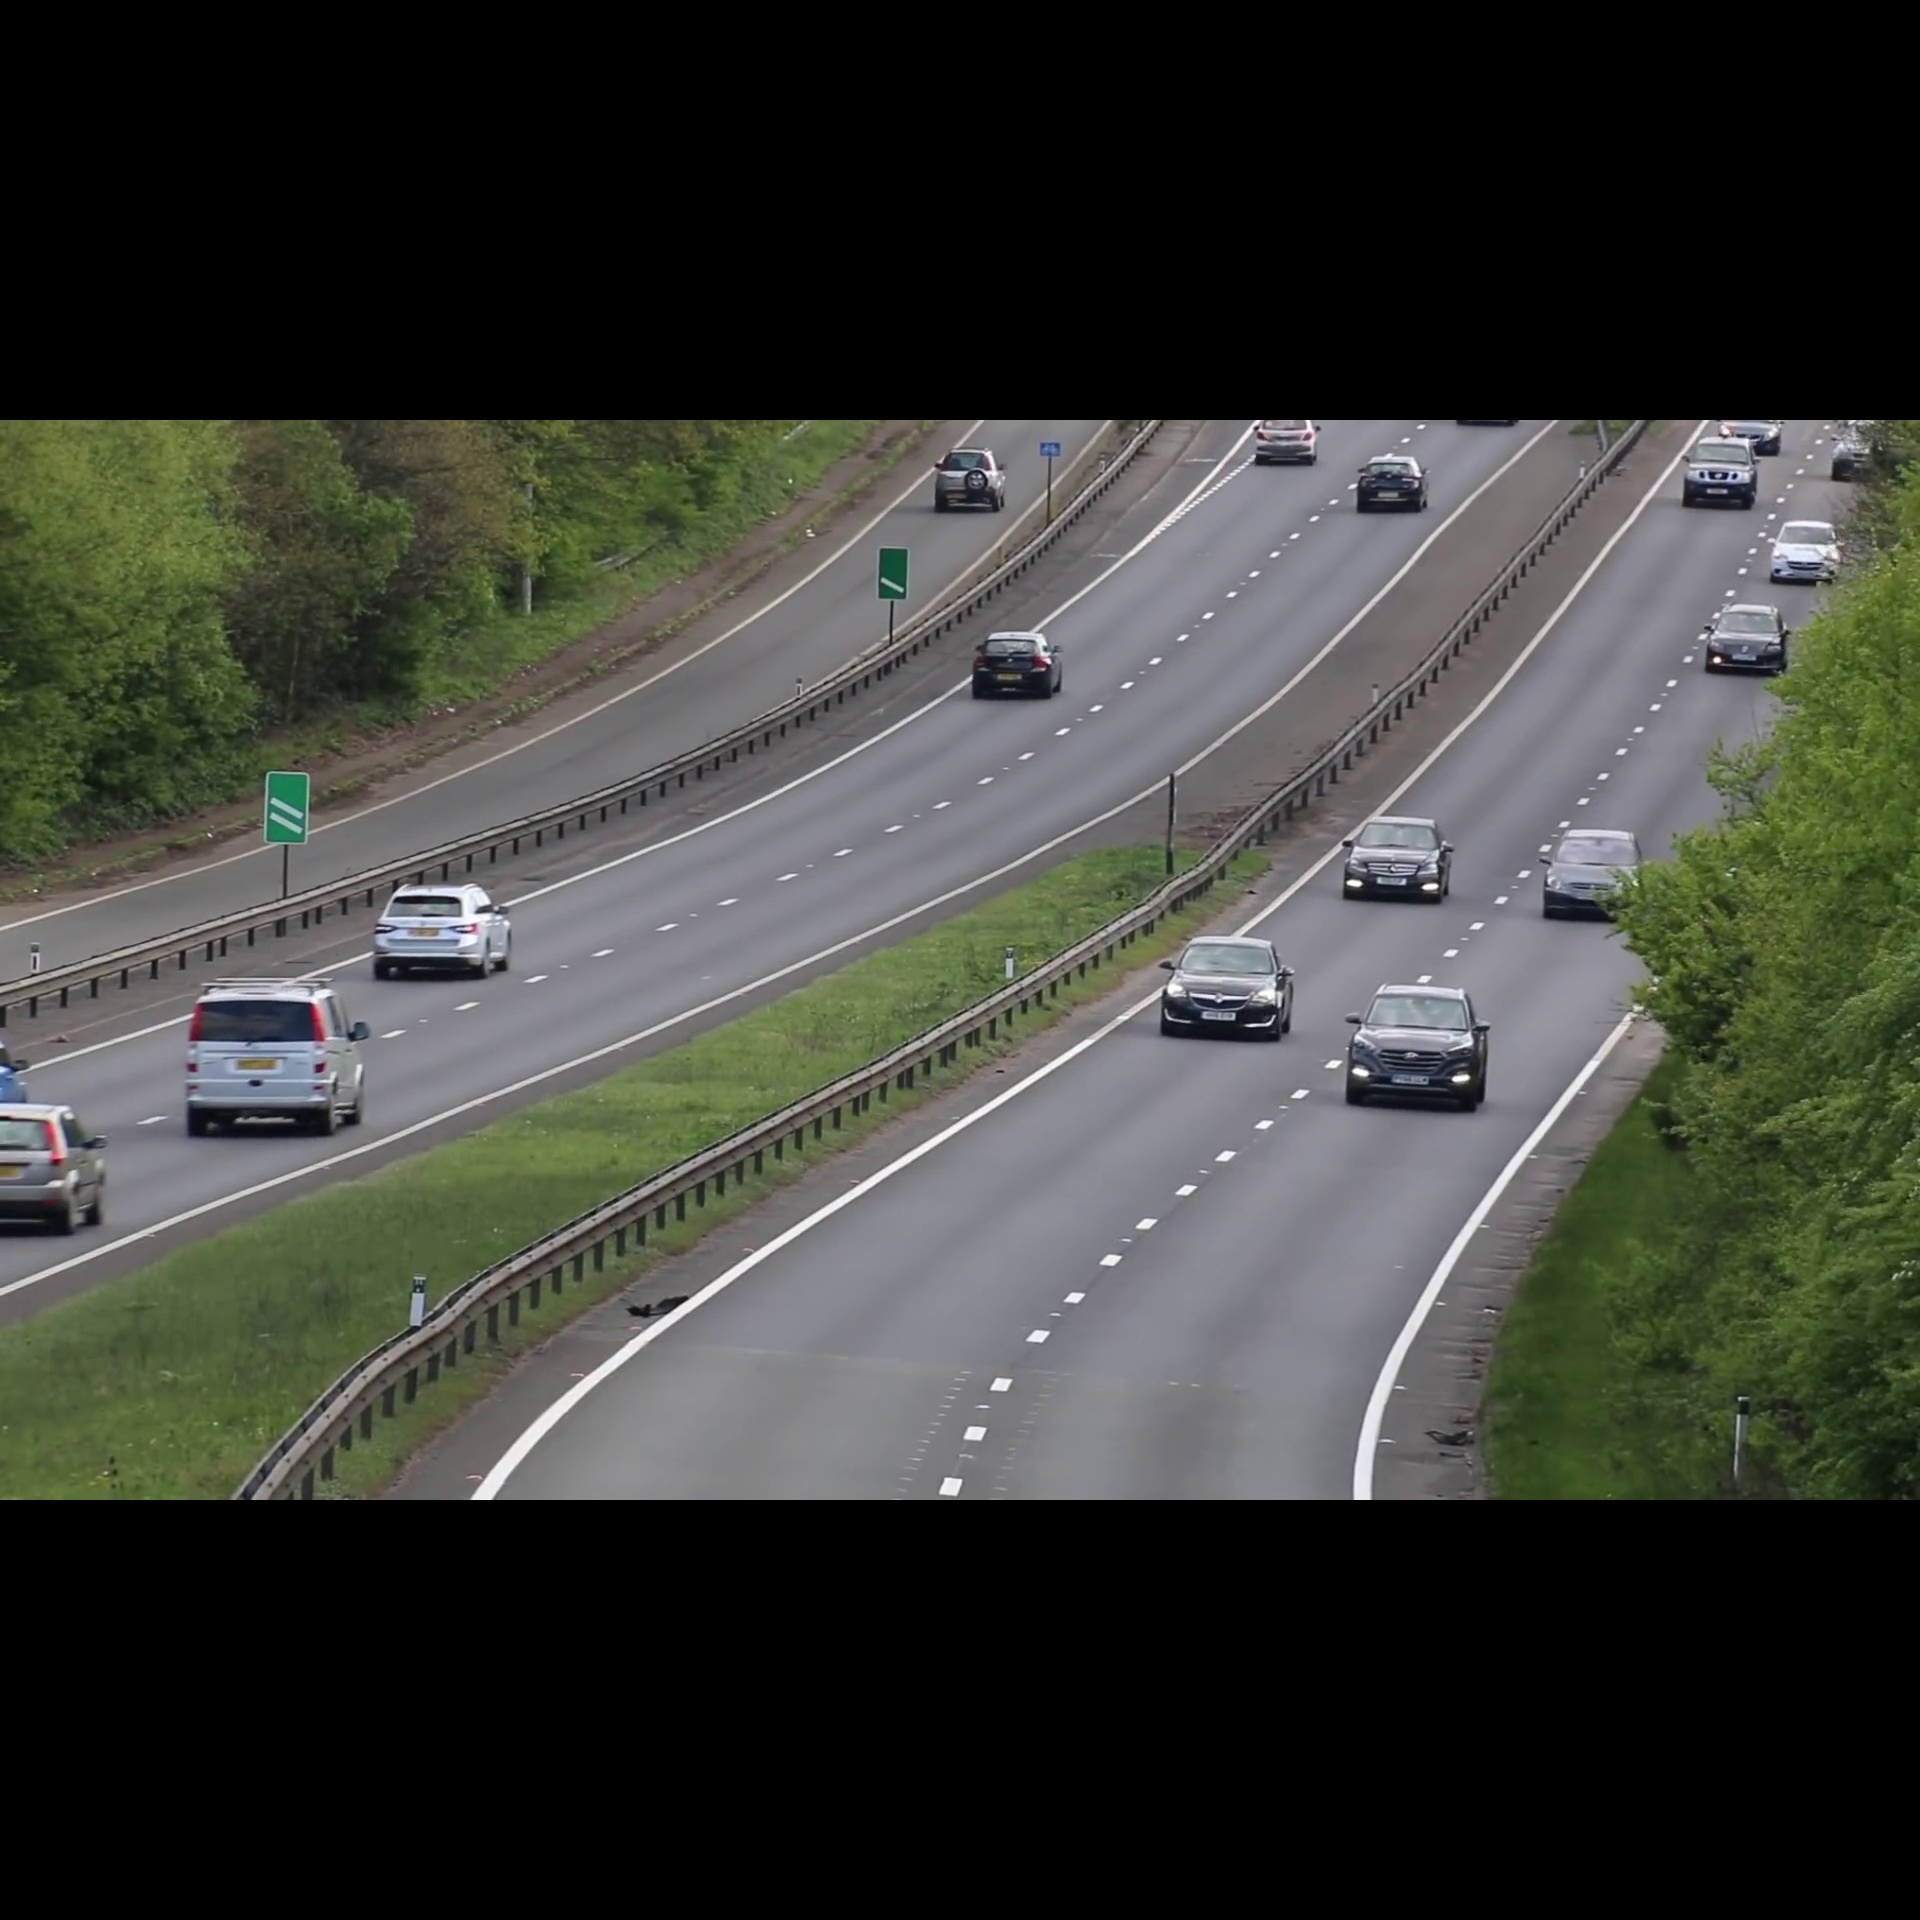vehicle: (179, 971, 371, 1146), (1340, 978, 1496, 1115), (366, 877, 522, 988), (1146, 934, 1296, 1044), (2, 1101, 114, 1240), (1338, 807, 1449, 909), (1538, 826, 1653, 925), (969, 622, 1067, 703), (1704, 598, 1795, 677), (932, 445, 1009, 519), (1683, 438, 1760, 512), (1765, 519, 1844, 585), (1356, 452, 1431, 512), (1250, 418, 1327, 469)
